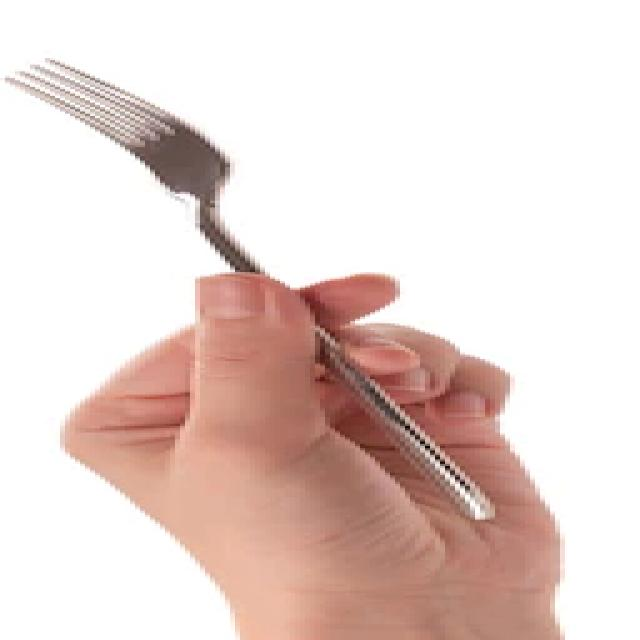fork: (2, 51, 500, 522)
